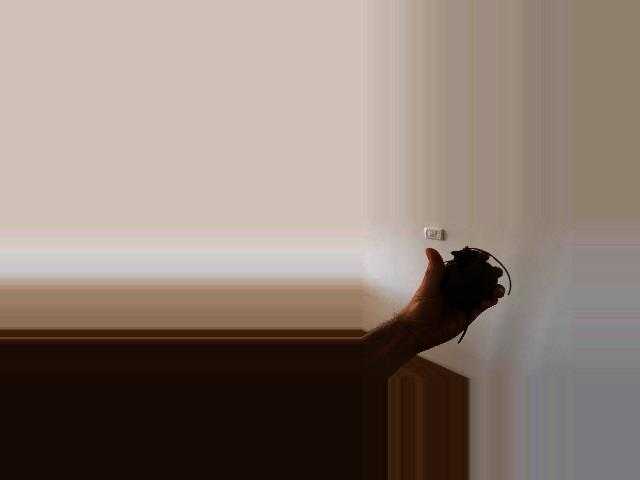beet: (443, 246, 512, 343)
